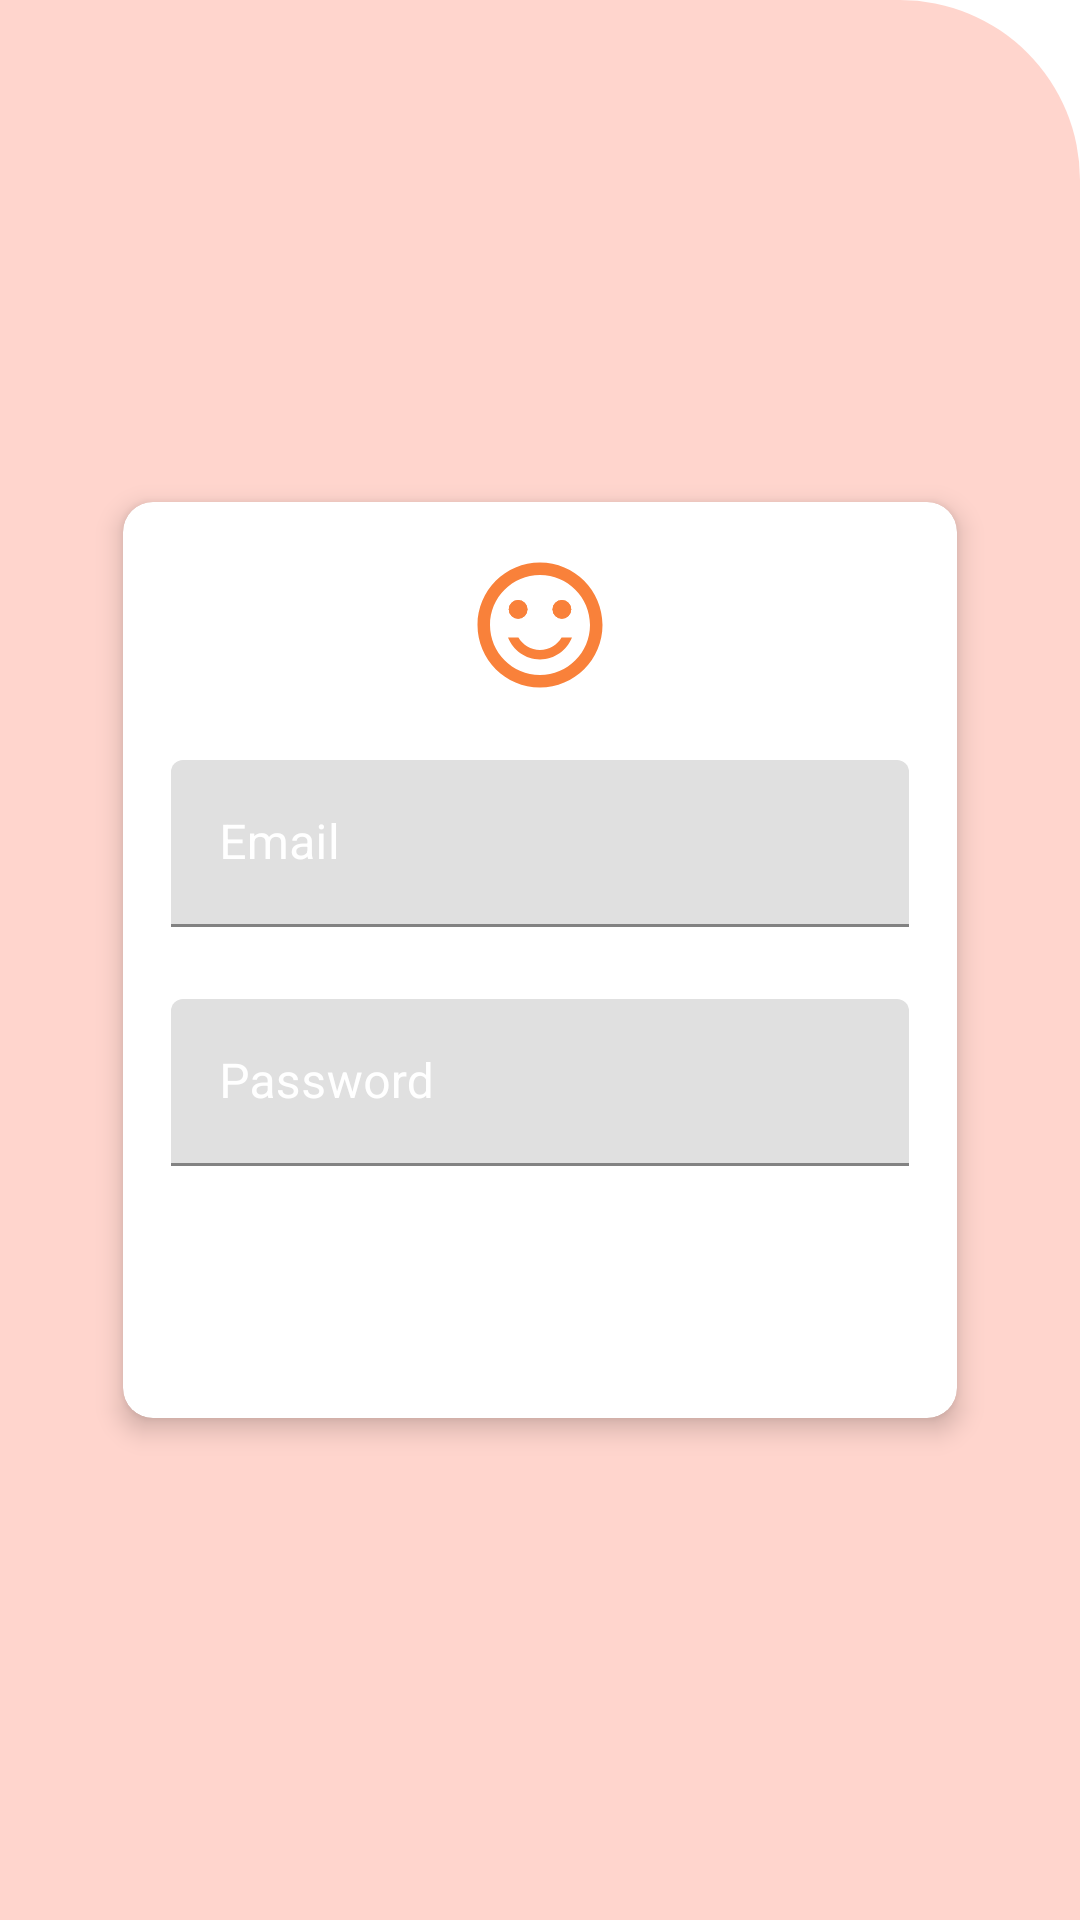

Icon bounding boxes for this 1080×1920 phone screenshot, format [x1,y1,x2,y2]:
sentiment satisfied: [477,562,603,688]
